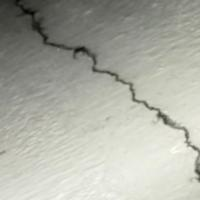crack: (9, 1, 199, 190)
